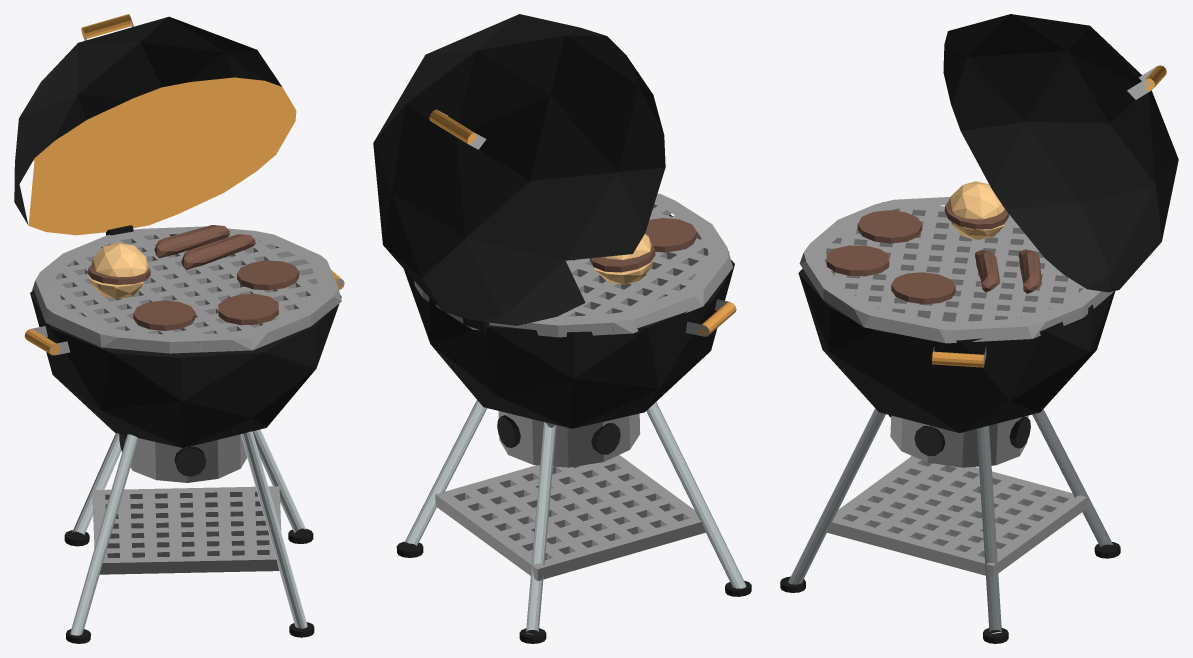
The model's file is grill.glb.
3 views of the same model, side by side, from view 1: azimuth 30°, elevation 25°; view 2: azimuth 150°, elevation 25°; view 3: azimuth 270°, elevation 25° (orthographic). The views are drawn at different scales.
Visible parts, largest first — view 1: Node; view 2: Node; view 3: Node.
Boxes of the visible parts, x1,y1,x2,y2 form: Node: (14, 14, 344, 643); Node: (373, 14, 751, 643); Node: (780, 14, 1178, 643).
Size of the model in its own units: 0.6693 by 1.15 by 0.7535.
